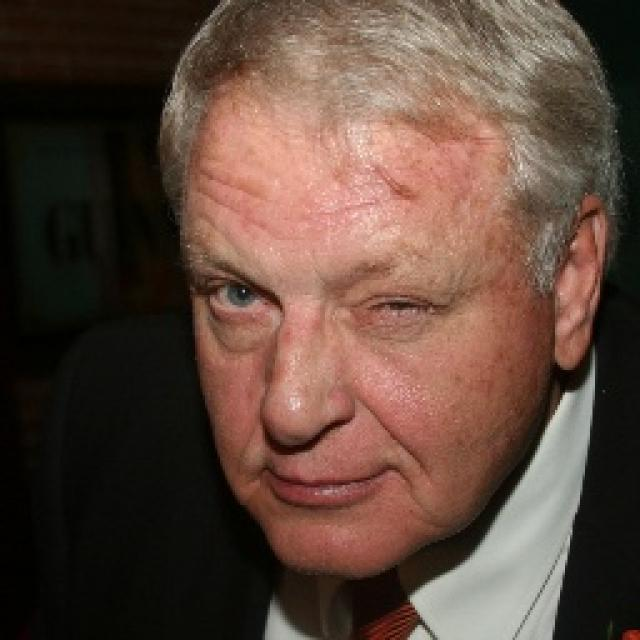earlobe: (552, 310, 594, 371)
eye: (206, 281, 278, 314), (364, 291, 439, 321)
nose: (271, 420, 359, 469)
wholeear: (552, 193, 609, 372)
